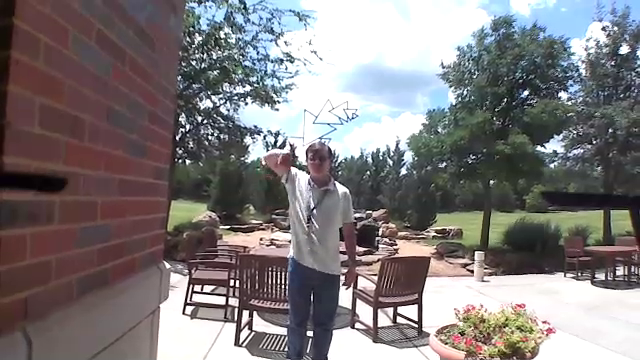down: (275, 146, 296, 179)
